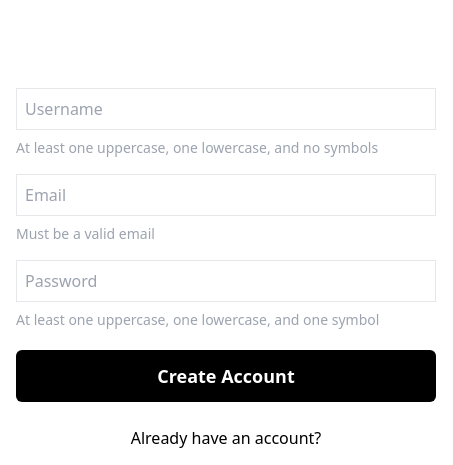
Testing error messages › Create a valid password
Type "Xavian10" into the field with placeholder "Username" at (226, 109), box [16,88,436,130]
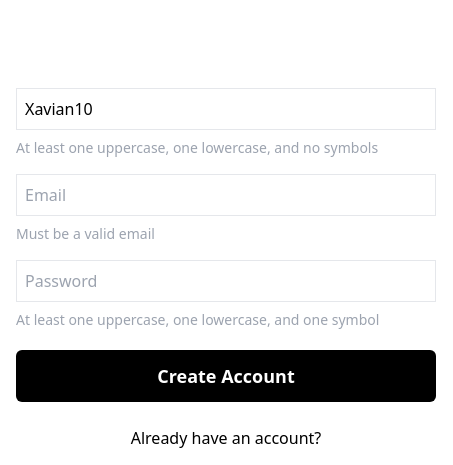
Type "XavianMoody1025@gmail.com" into the field with placeholder "Email" at (226, 195), box [16,174,436,216]
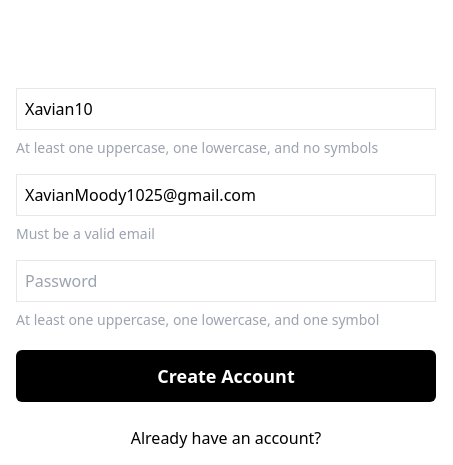
Type "Wwetna123" into the password field with placeholder "Password" at (226, 281), box [16,260,436,302]
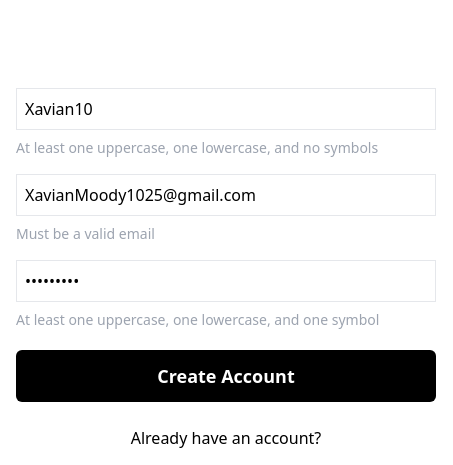
Click the button "Create Account" at (226, 376), box [16,350,436,402]
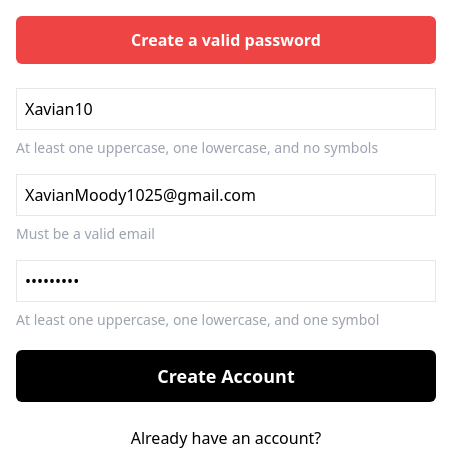
Check: the text "Create a valid password" is shown, box [16,16,436,64]
